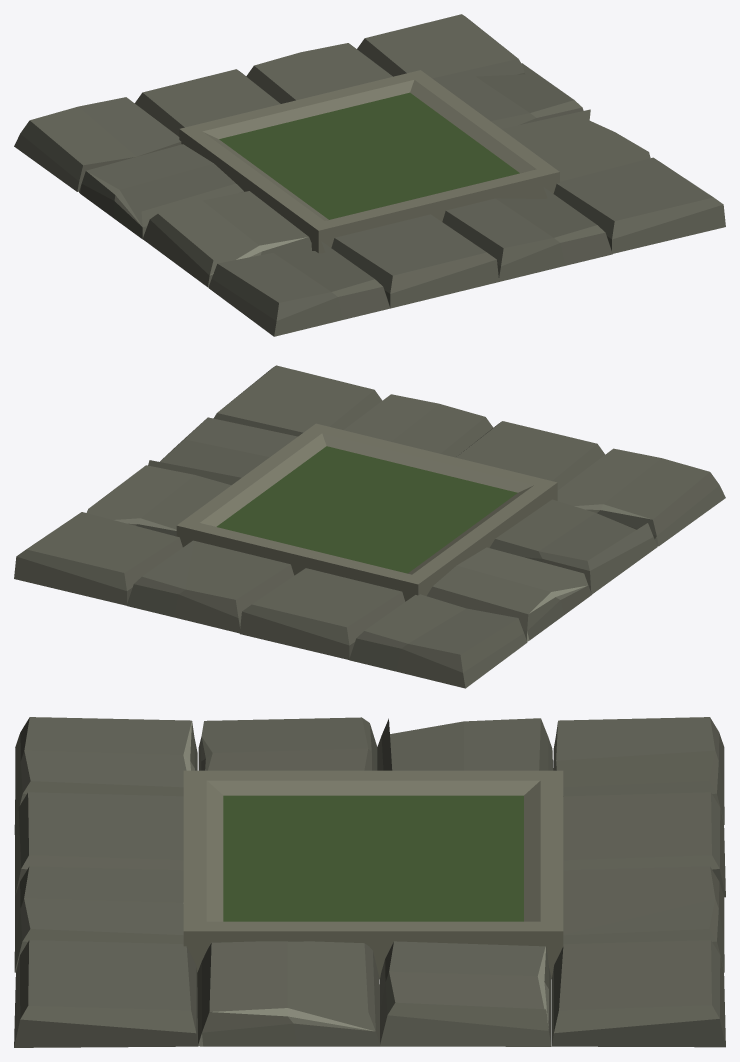
Rendered from Floor_Tree.glb.
3 views of the same model, one above another, from view 1: azimuth 30°, elevation 25°; view 2: azimuth 150°, elevation 25°; view 3: azimuth 270°, elevation 25° (orthographic). The views are drawn at different scales.
Parts seen in each view (by area): view 1: Floor_Tree; view 2: Floor_Tree; view 3: Floor_Tree.
Boxes of the visible parts, x1,y1,x2,y2 form: Floor_Tree: (14, 14, 725, 336); Floor_Tree: (14, 365, 725, 688); Floor_Tree: (14, 717, 725, 1047).
Size of the model in its own units: 0.9961 by 0.0742 by 0.9978.
